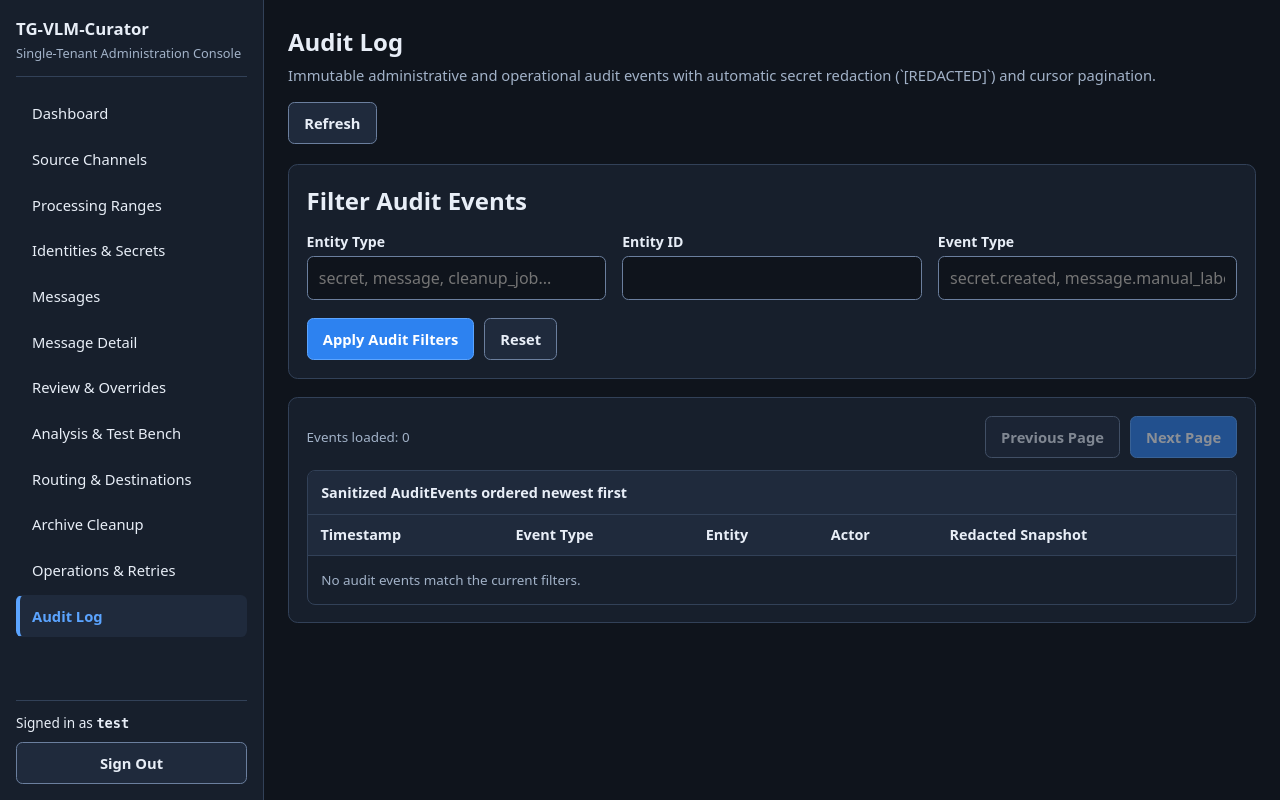
Test case: PR30 regressions grounded in current backend serializers/HTTP DTOs › every API 401 resets App authentication, and stale pre-login 401 cannot end a new login
This screenshot has width=1280, height=800.
Expected: the heading "Audit Log" is shown, [288,25,403,58]
Click the button "Refresh" at (332,123), box [288,102,377,144]
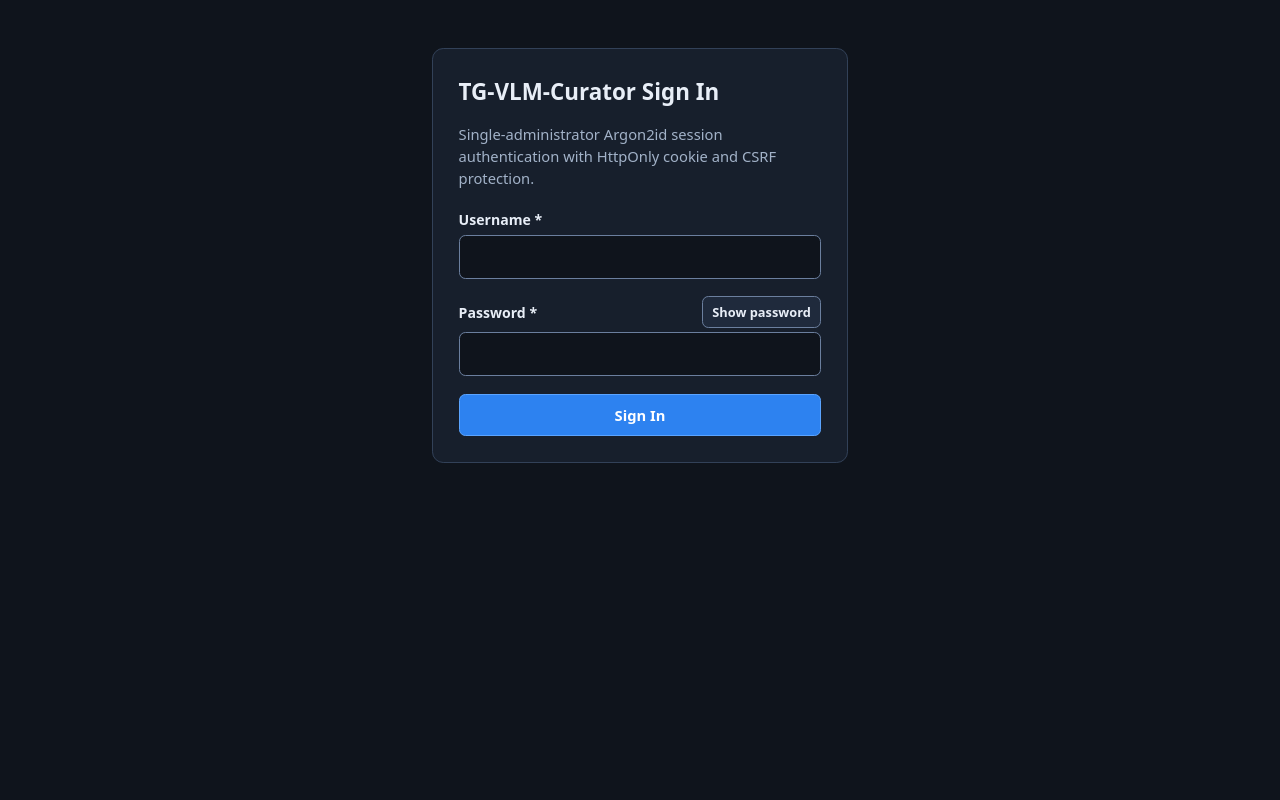
Expected: the button "Sign In" is shown, [459,394,821,436]
Expected: the navigation bar is gone
